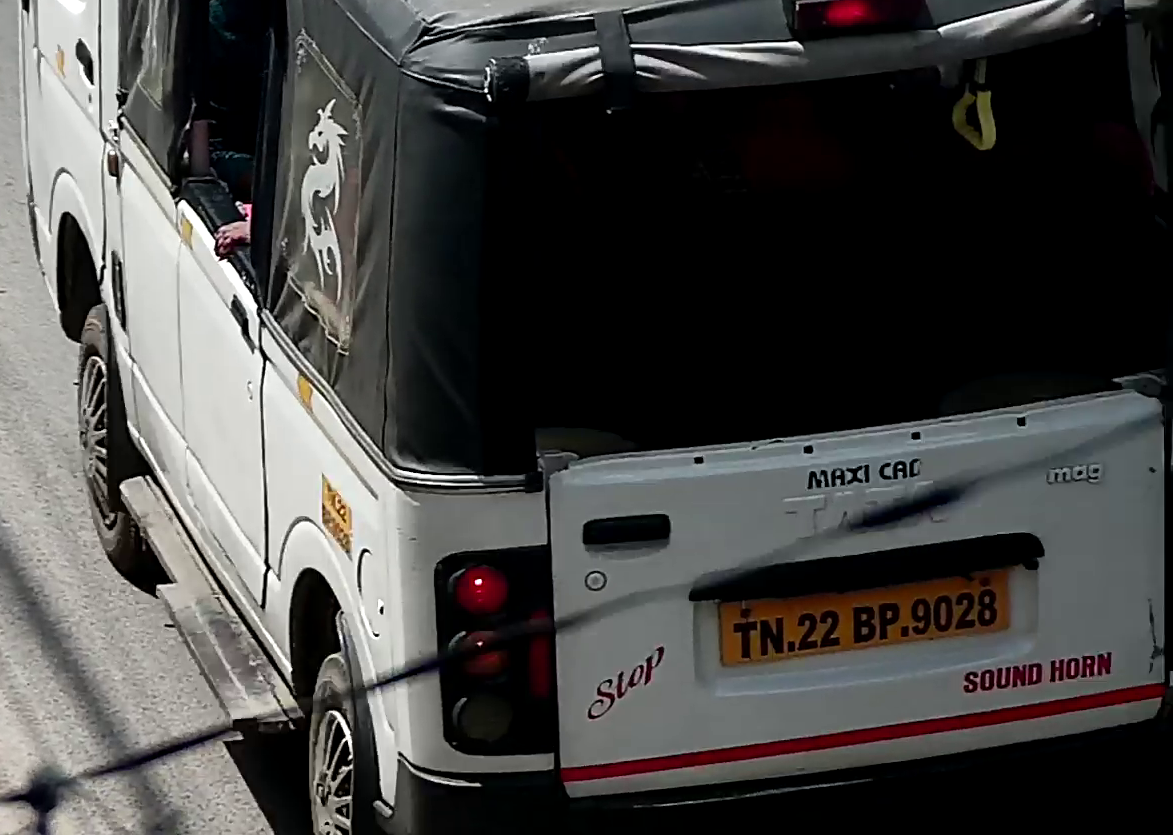.: (787, 640, 796, 653), (901, 625, 910, 638)
0: (933, 594, 954, 633)
2: (819, 610, 842, 649), (955, 591, 976, 631), (797, 613, 818, 651)
8: (977, 588, 998, 628)
9: (910, 598, 932, 636)
B: (852, 605, 876, 644)
N: (759, 617, 784, 656)
P: (877, 602, 900, 641)
P9: (716, 566, 1018, 670)
T: (732, 620, 758, 660)
